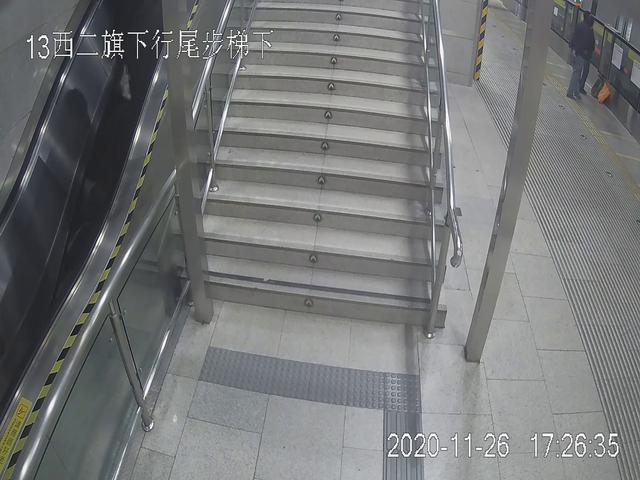person: (566, 11, 595, 102)
